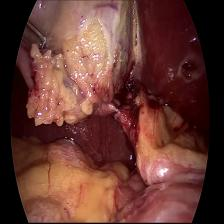Grasper: (21, 19, 55, 47)
